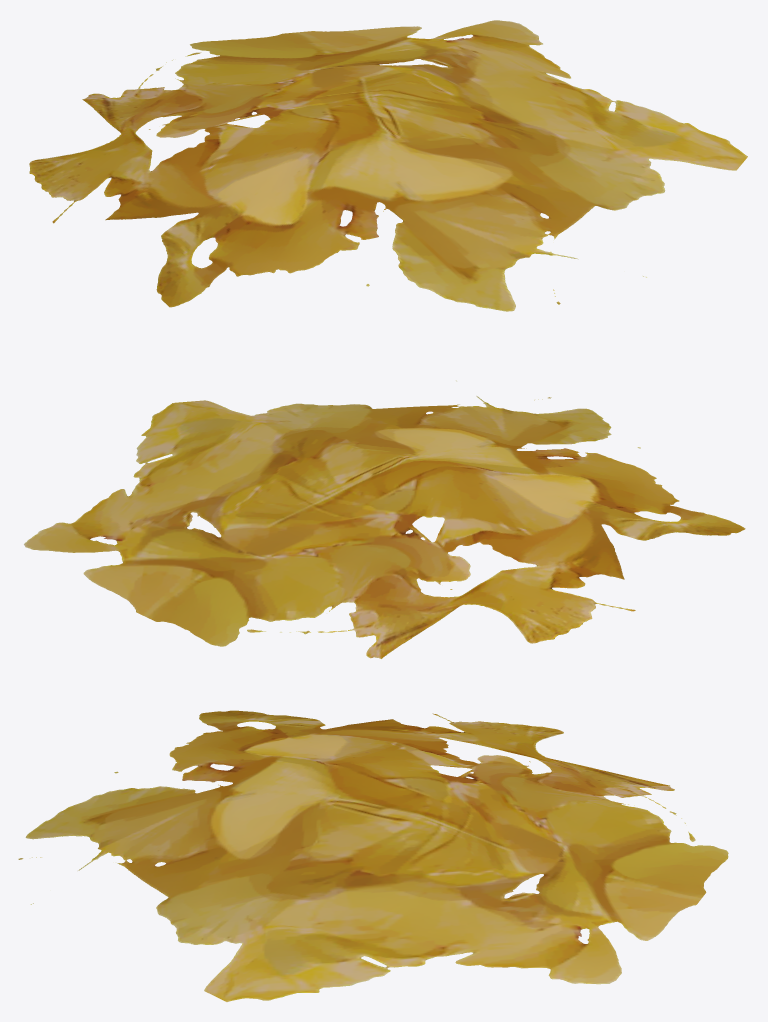
Rendered from CBS_FallenLeaves_05.FBX.
The picture shows the model from 3 angles, top to bottom: view 1: azimuth 30°, elevation 25°; view 2: azimuth 150°, elevation 25°; view 3: azimuth 270°, elevation 25°; orthographic projection. The views are drawn at different scales.
Visible parts, largest first — view 1: CBS_FallenLeaves_05; view 2: CBS_FallenLeaves_05; view 3: CBS_FallenLeaves_05.
Part boxes in pixels (bbox=[...]): CBS_FallenLeaves_05: bbox=[29, 20, 747, 311]; CBS_FallenLeaves_05: bbox=[24, 380, 745, 658]; CBS_FallenLeaves_05: bbox=[18, 710, 728, 1001].
Bounding box in the file's own units: 65.72 × 6.43 × 66.28.
